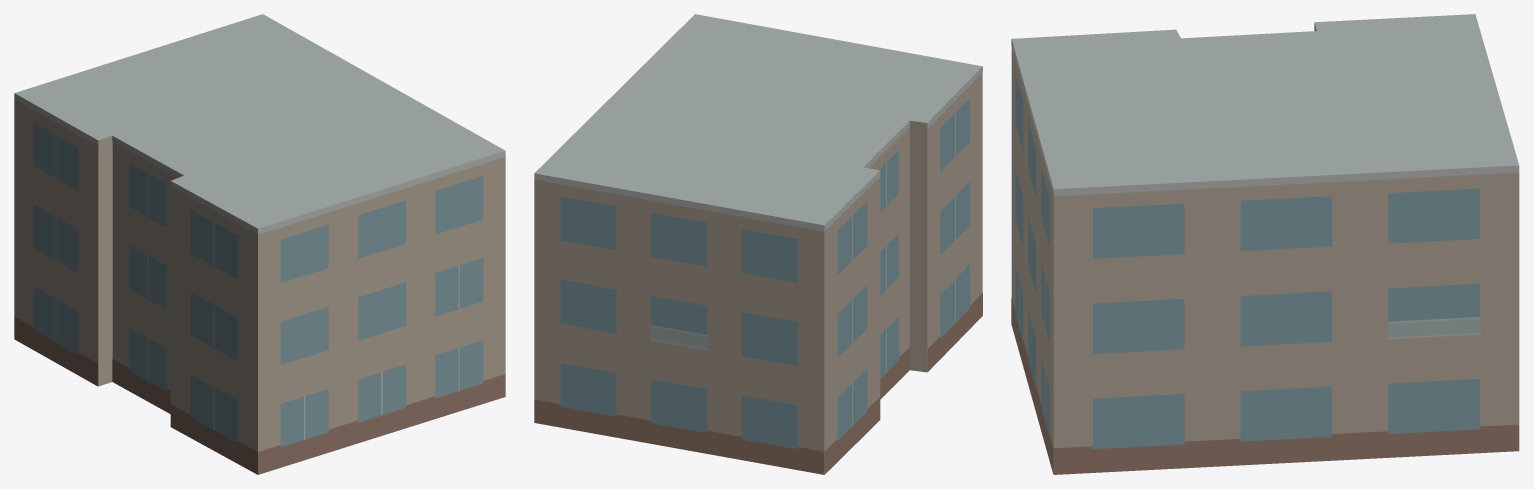
The model's file is survey-upis-32885713.glb.
3 renders of one model, left to right at view 1: azimuth 30°, elevation 25°; view 2: azimuth 150°, elevation 25°; view 3: azimuth 270°, elevation 25°, orthographic. The views are drawn at different scales.
Parts seen in each view (by area): view 1: survey-upis-32885713.tmp; view 2: survey-upis-32885713.tmp; view 3: survey-upis-32885713.tmp.
Part boxes in pixels (<box>): survey-upis-32885713.tmp: <box>14,14,505,474</box>; survey-upis-32885713.tmp: <box>534,14,982,474</box>; survey-upis-32885713.tmp: <box>1011,14,1519,474</box>.
Bounding box in the file's own units: 12.77 × 9.7 × 15.64.
